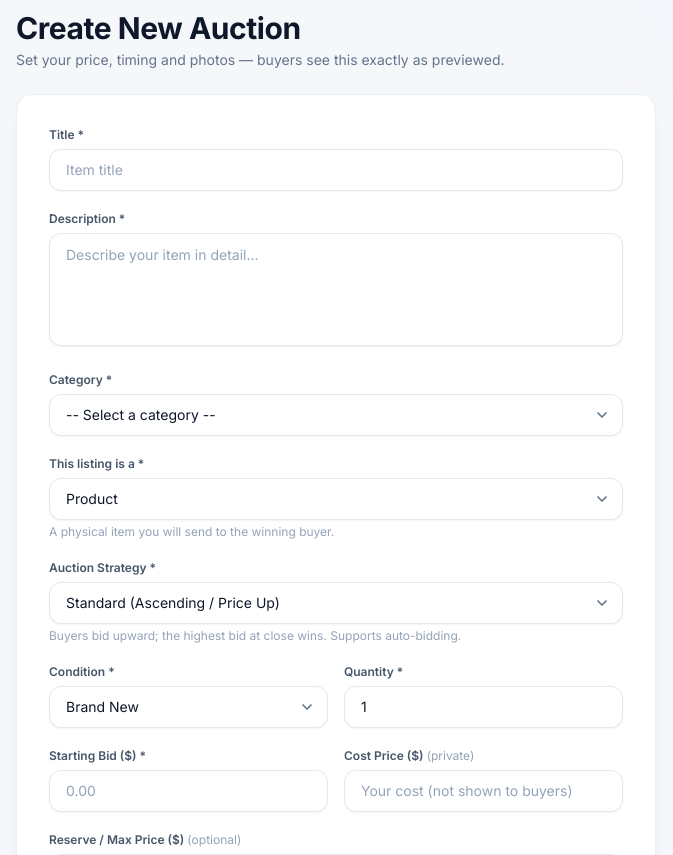
Test: choosing a product or a service › explains what a service is, so the choice is not a guess
Select "Service" in the dropdown labelled "This listing is a *" at (336, 499), box [49,478,623,520]
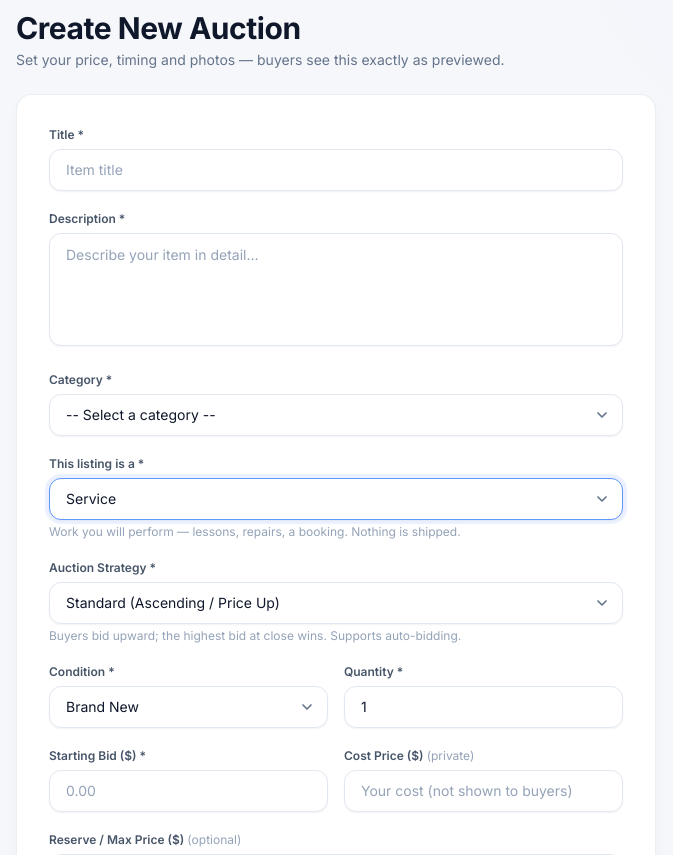
expect the text "Nothing is shipped" is shown: met, box [49,524,461,539]
